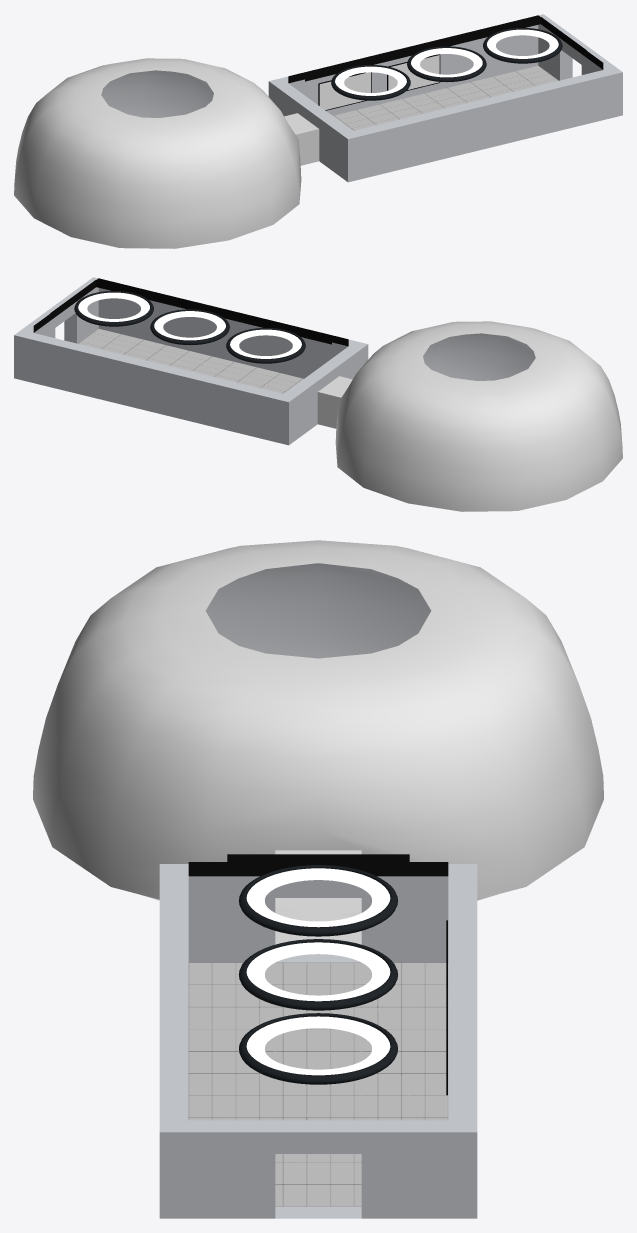
File: room.glb
The picture shows the model from 3 angles, top to bottom: view 1: azimuth 30°, elevation 25°; view 2: azimuth 150°, elevation 25°; view 3: azimuth 270°, elevation 25°; orthographic projection. The views are drawn at different scales.
Parts seen in each view (by area): view 1: Dome, Lobby, LobbyFloor, CeilingLight, CeilingLight2, CeilingLight3, Screen, Screen2Face; view 2: Dome, Lobby, LobbyFloor, CeilingLight, CeilingLight2, CeilingLight3; view 3: Dome, Lobby, LobbyFloor, CeilingLight2, CeilingLight3, CeilingLight.
Boxes of the visible parts, x1,y1,x2,y2 form: Dome: [14, 58, 319, 248]; Lobby: [268, 14, 622, 182]; LobbyFloor: [333, 65, 558, 130]; CeilingLight: [407, 46, 486, 82]; CeilingLight2: [331, 65, 410, 100]; CeilingLight3: [483, 28, 562, 63]; Screen: [318, 72, 371, 110]; Screen2Face: [388, 55, 439, 90]; Dome: [317, 321, 622, 511]; Lobby: [14, 277, 368, 445]; LobbyFloor: [78, 328, 303, 393]; CeilingLight: [150, 309, 229, 345]; CeilingLight2: [226, 328, 305, 363]; CeilingLight3: [74, 291, 153, 326]; Dome: [33, 540, 603, 944]; Lobby: [159, 854, 477, 1218]; LobbyFloor: [188, 962, 448, 1206]; CeilingLight2: [239, 865, 397, 936]; CeilingLight3: [239, 1013, 397, 1084]; CeilingLight: [239, 939, 397, 1010].
Bounding box in the file's own units: 39.97 × 6.69 × 18.
Materials: 11 (1 with a texture image).
